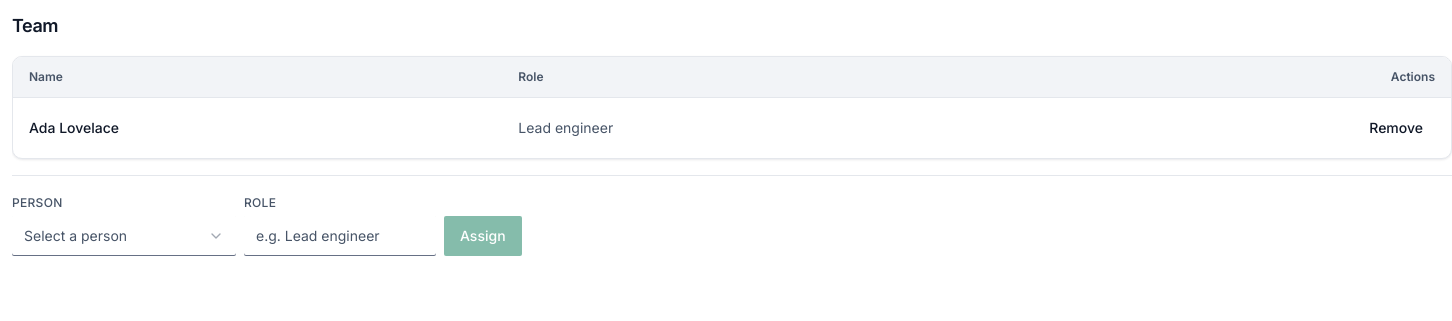
it: ProjectRoster › scopes the assign picker to client-linked people not already on the roster
Expected: the text "Ada Lovelace" is shown, [13,97,502,158]
Click the dropdown: coordinates (124, 236) [12,216,236,256]
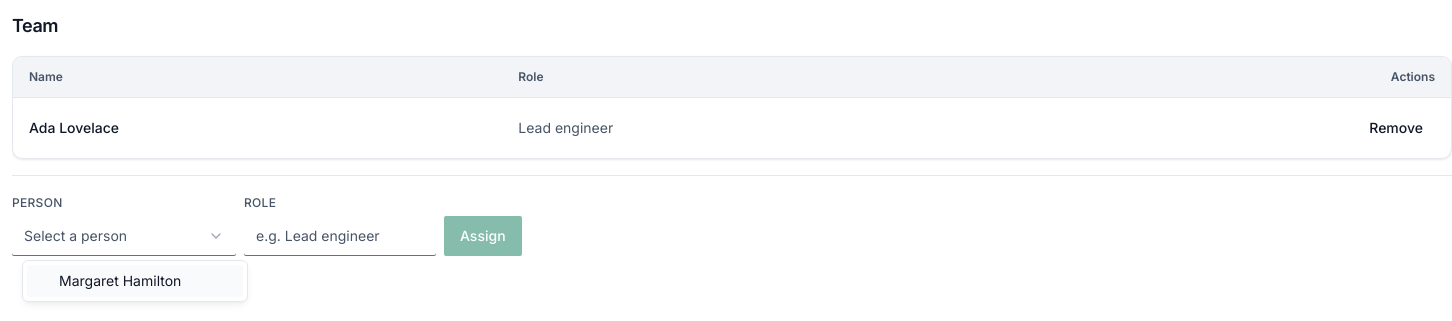
Now the option "Margaret Hamilton" is shown, box [27,265,243,297]
